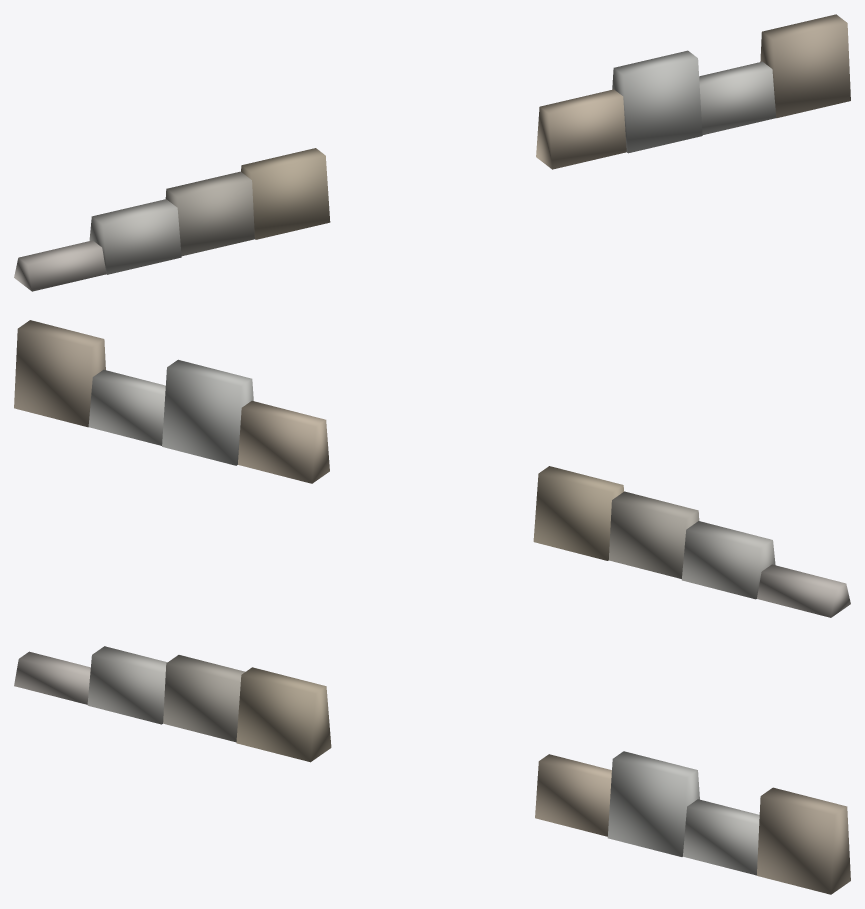
The model's file is farm_24_11_collision.glb.
The picture shows the model from 3 angles, top to bottom: view 1: azimuth 30°, elevation 25°; view 2: azimuth 150°, elevation 25°; view 3: azimuth 330°, elevation 25°; orthographic projection. The views are drawn at different scales.
Visible parts, largest first — view 1: geometry_0; view 2: geometry_0; view 3: geometry_0.
Boxes of the visible parts, left/top/right/bottom form: geometry_0: left=14, top=14, right=850, bottom=291; geometry_0: left=14, top=320, right=850, bottom=617; geometry_0: left=14, top=646, right=850, bottom=894.
Bounding box in the file's own units: 16.31 × 1.46 × 0.997.
